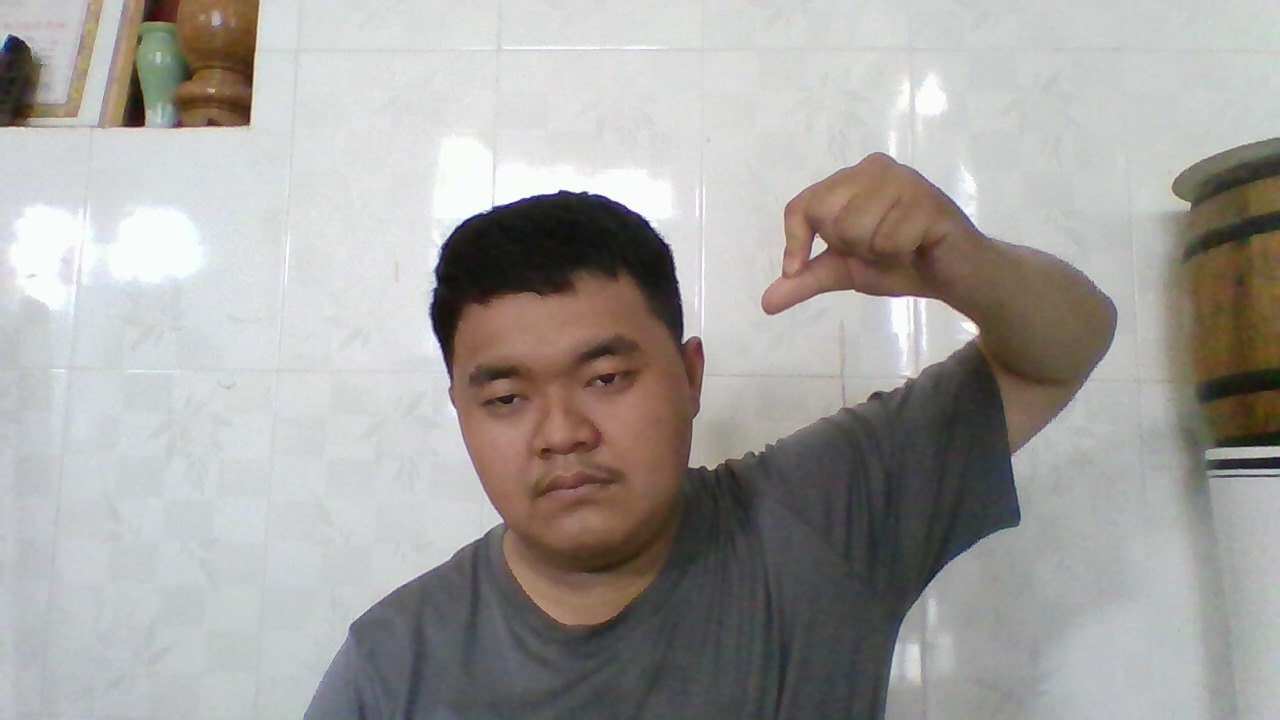S: (757, 147, 968, 320)
